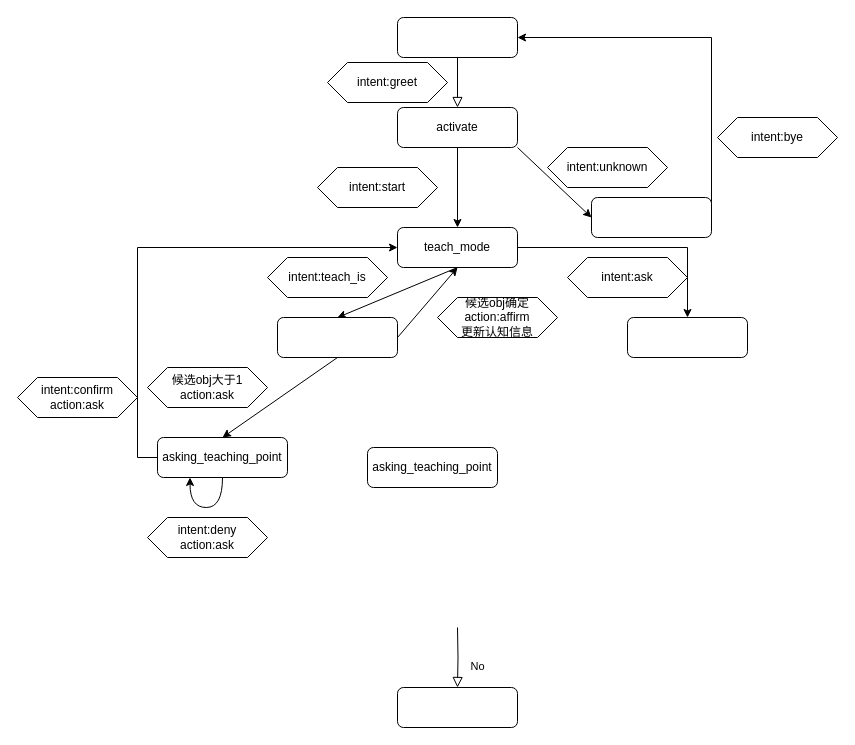
Image size: 855x745. Some labels were removed from this diagram. Each missing label, with the centre of its shape:
ask: the point at 687,337
chat: the point at 651,217
idle: the point at 457,37
Repair Lamp: the point at 457,707
teaching: the point at 337,337
